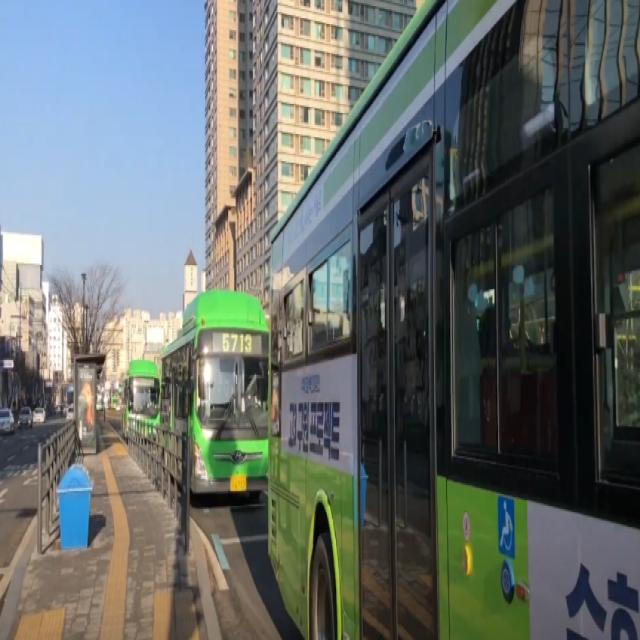bus-number: (222, 331, 252, 356)
